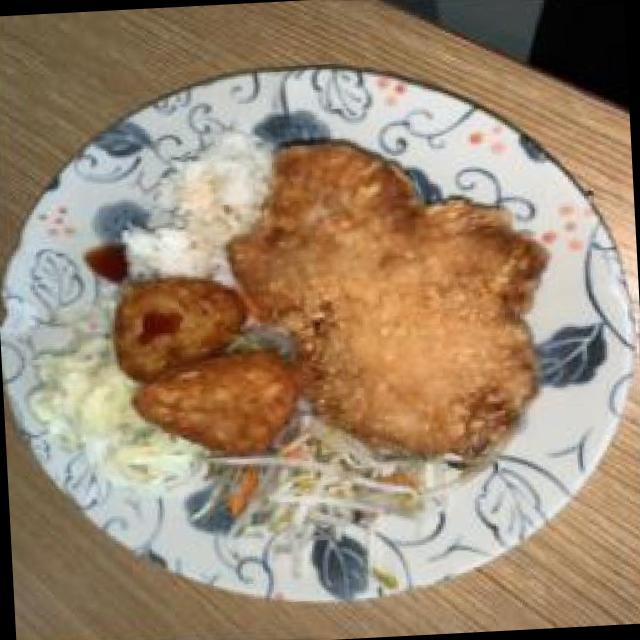chinese_cabbage: (29, 306, 161, 492)
fried_chicken: (258, 130, 552, 462)
mung_bean_sprouts: (234, 432, 441, 532)
rice: (130, 125, 272, 282)
triangle_hash_brown: (115, 274, 308, 463)
